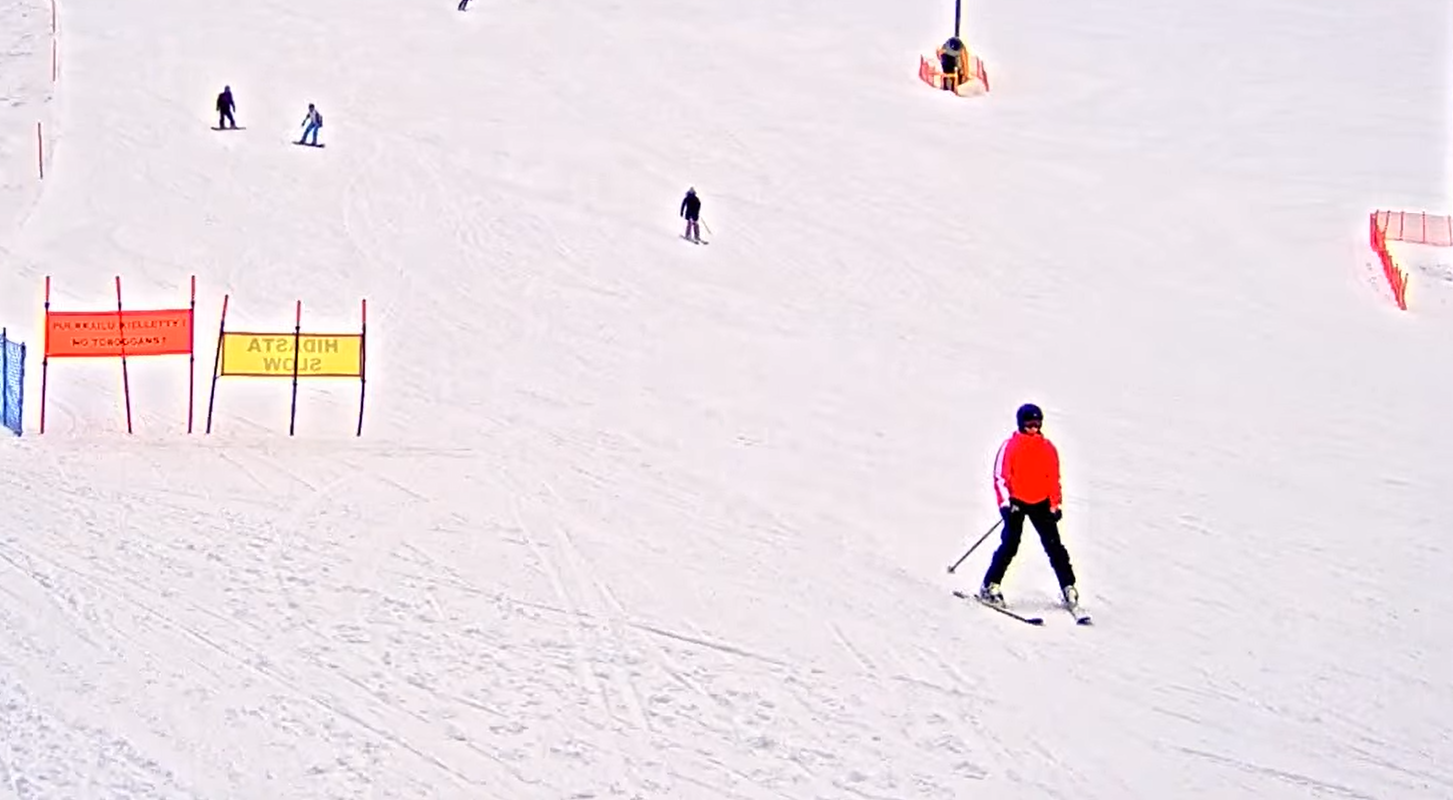skier: (947, 402, 1092, 624), (672, 187, 711, 245)
snowboarder: (210, 82, 246, 134), (292, 102, 327, 148)
